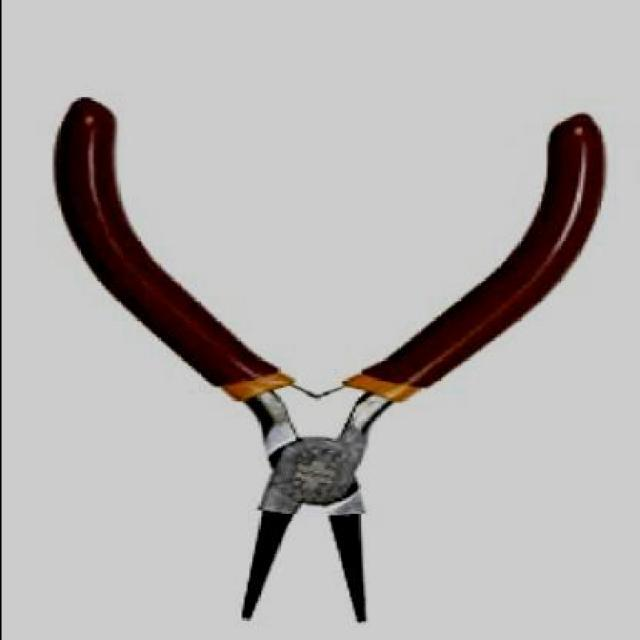pliers: (52, 99, 602, 621)
